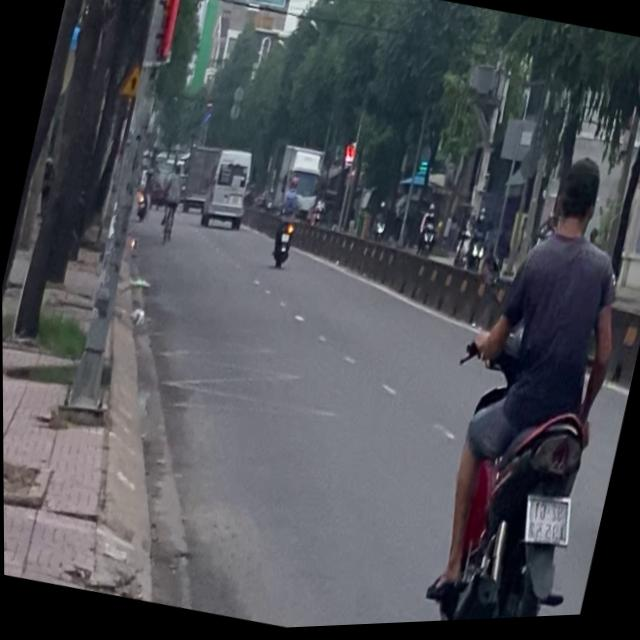licenseplate: (401, 140, 640, 626)
motorcyclist: (550, 156, 609, 243)
nohelmet: (521, 495, 574, 552)
